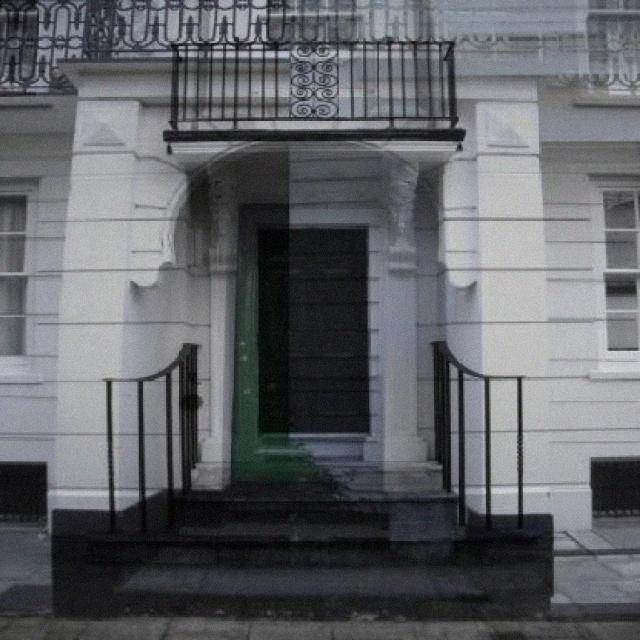stair: (112, 496, 483, 616)
